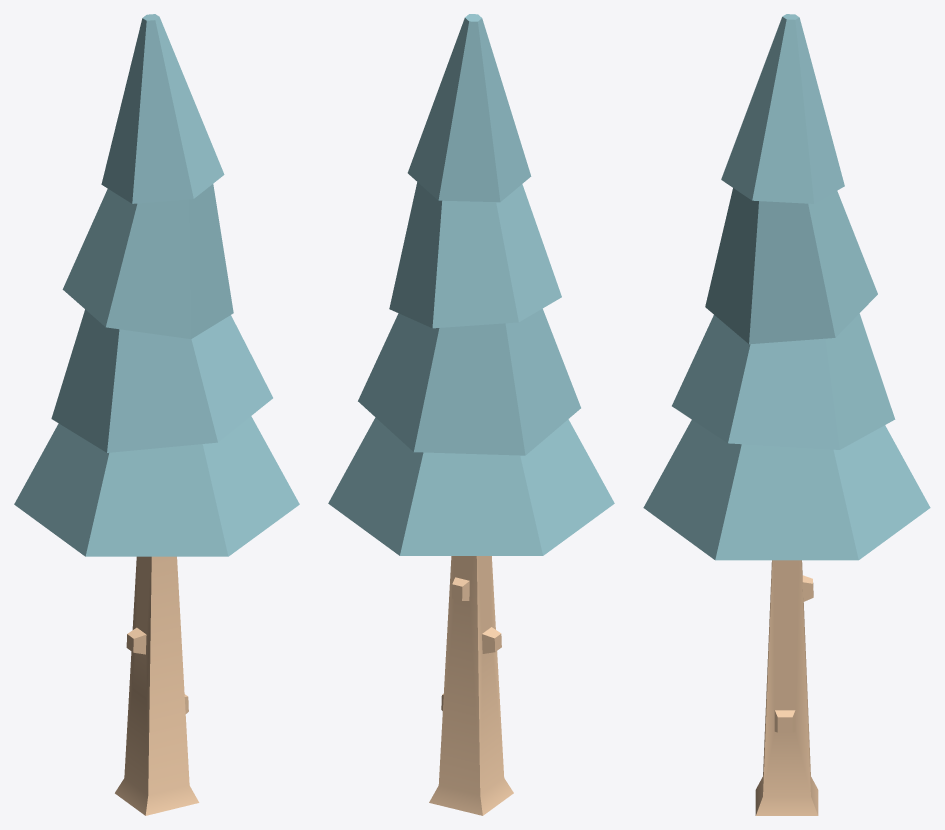
File: tree_pine_short_detailed.glb
3 renders of one model, left to right at view 1: azimuth 30°, elevation 25°; view 2: azimuth 150°, elevation 25°; view 3: azimuth 270°, elevation 25°, orthographic.
Visible parts, largest first — view 1: tree_pine_short_detailed; view 2: tree_pine_short_detailed; view 3: tree_pine_short_detailed.
Boxes of the visible parts, bbox=[...] form: tree_pine_short_detailed: bbox=[14, 14, 299, 815]; tree_pine_short_detailed: bbox=[328, 14, 614, 815]; tree_pine_short_detailed: bbox=[643, 14, 930, 815].
Bounding box in the file's own units: 0.4804 × 1.67 × 0.5547.
